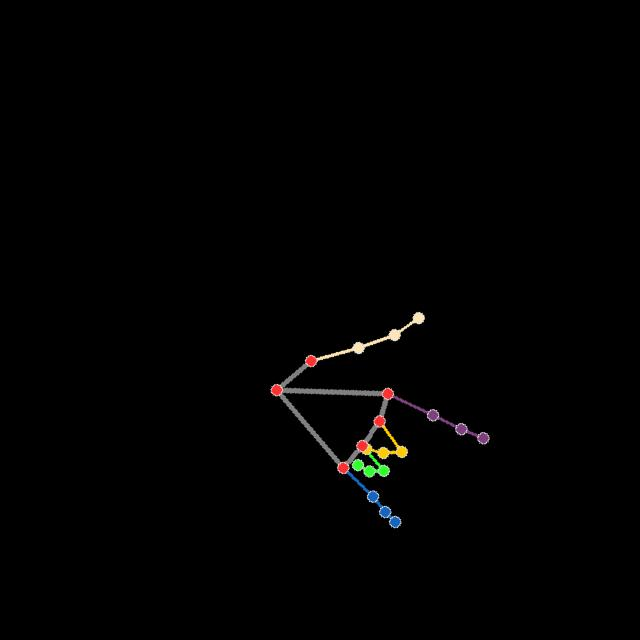spiderman: (266, 312, 492, 529)
